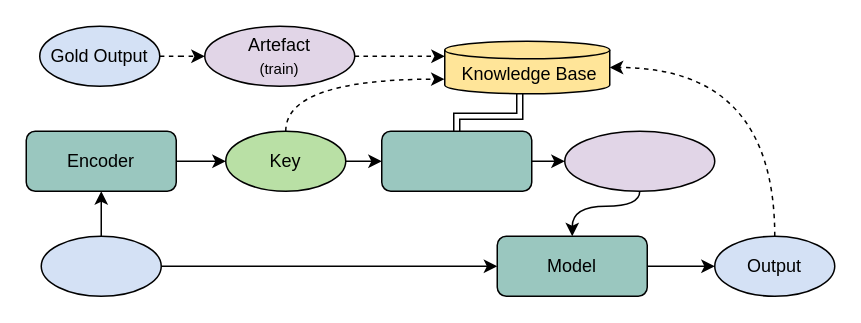
This 861x323 diagram has some shape labels left out. Each missing label, with the box of its shape:
Artefact (inference): (563, 130, 715, 191)
Query/Input: (40, 235, 161, 296)
Retriever: (380, 130, 532, 191)
